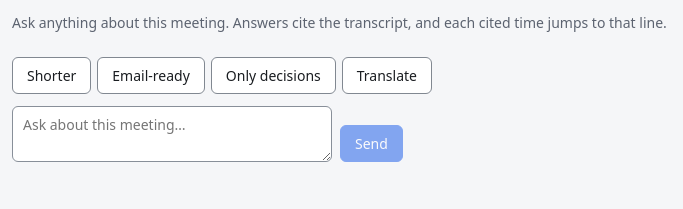
AskAiTab history and sending › shows the truncated notice once a reply reports a long transcript
Type "anything?" into the text box labelled "Ask about this meeting" at (172, 134), box [12,106,332,162]
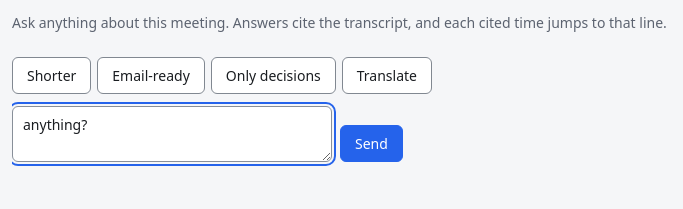
Click the button "Send" at (371, 144), box [340,125,403,162]
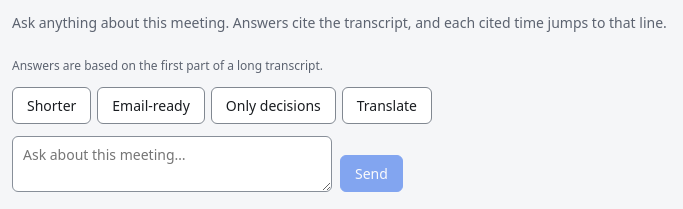
Now the text "Answers are based on the first part of a long transcript." is shown, box [12,57,323,74]
